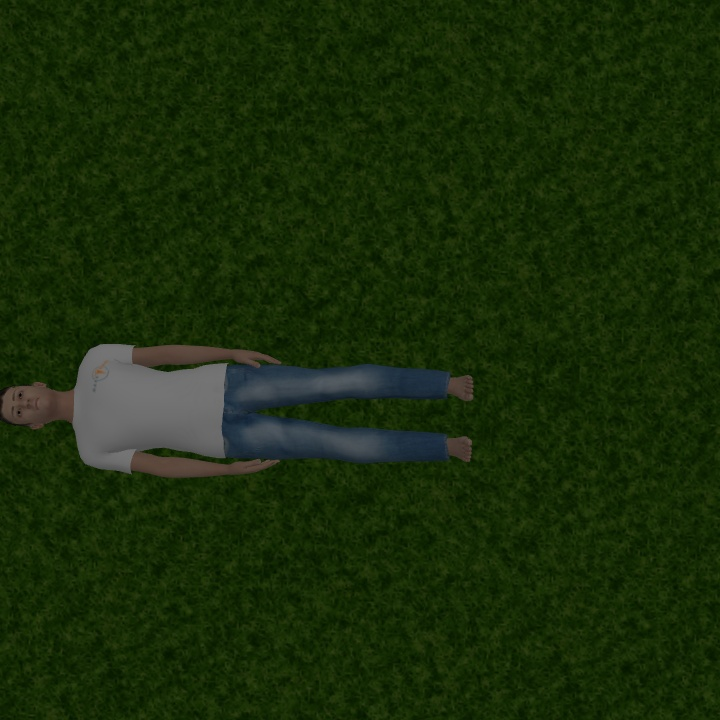victim: (1, 336, 476, 481)
